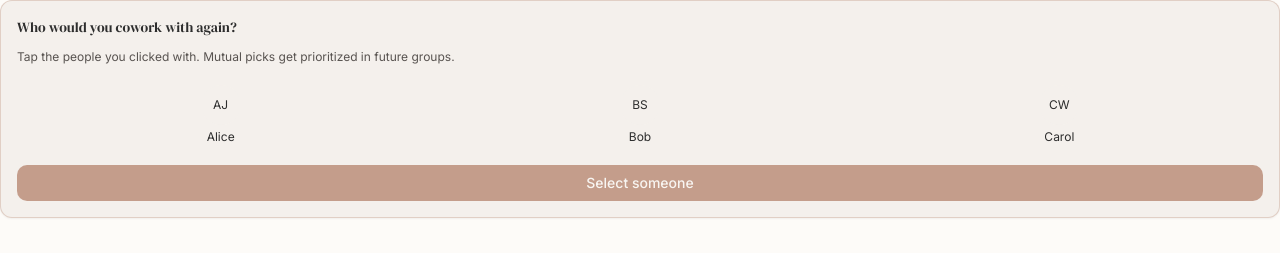
CoworkAgainCard › clicking a member adds them to selection and enables submit
Click on Alice
Click the button "Alice". click: (221, 115)
box: [17,77,424,153]
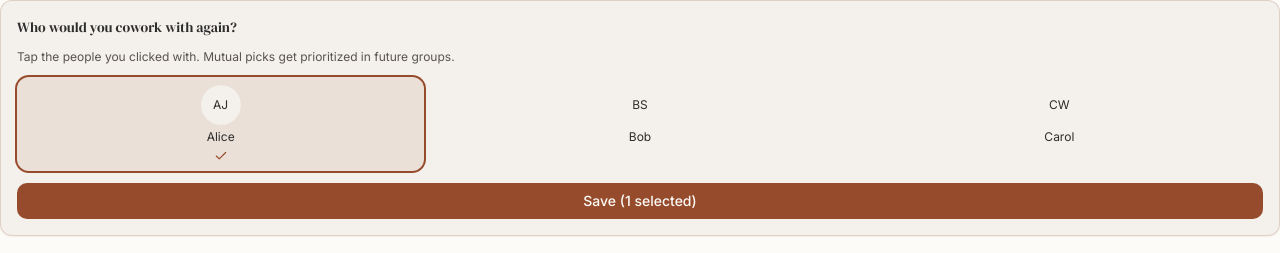
Expected: the button "Save (1 selected)" is enabled, [17,183,1263,219]
